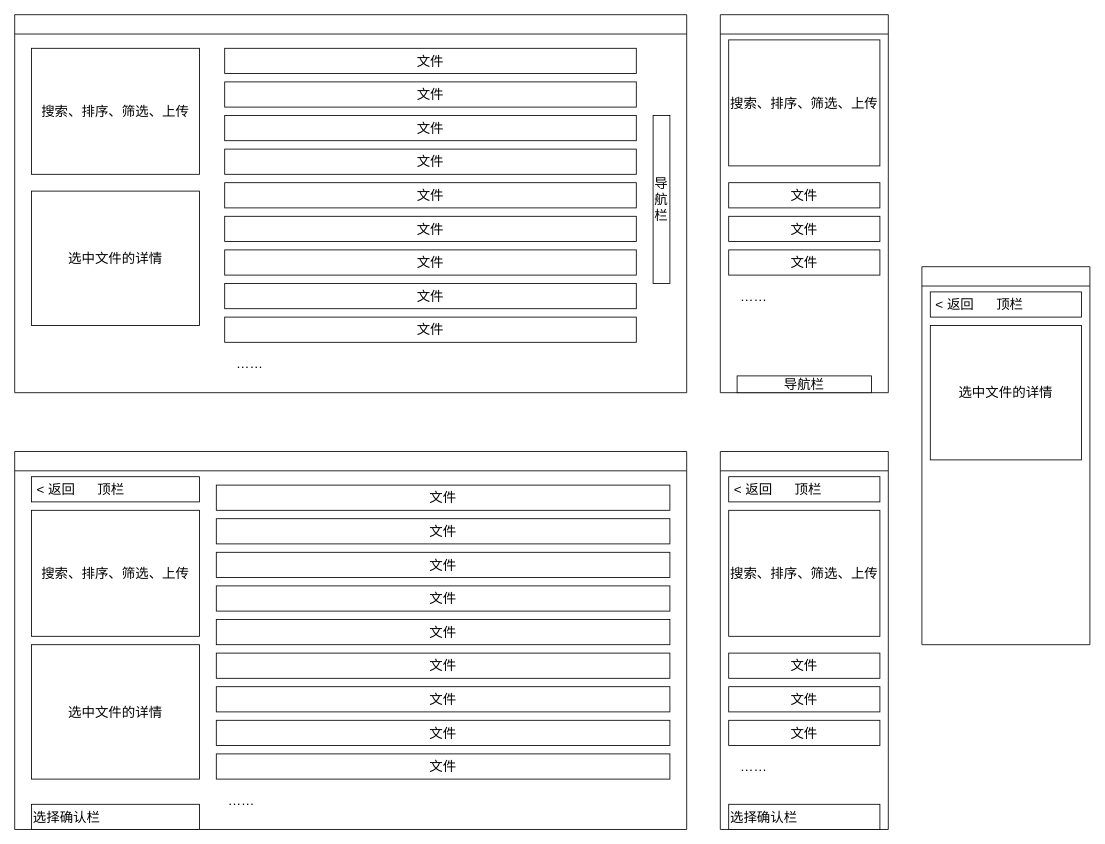
This 1105x844 diagram has some shape labels left out. Each missing label, with the box of its shape:
文件详情页面【小屏】: (921, 266, 1090, 645)
文件选择页面【大屏】: (14, 451, 687, 830)
文件选择页面【小屏】: (719, 451, 888, 830)
文件页面【大屏】: (14, 14, 687, 393)
文件页面【小屏】: (719, 14, 888, 393)
